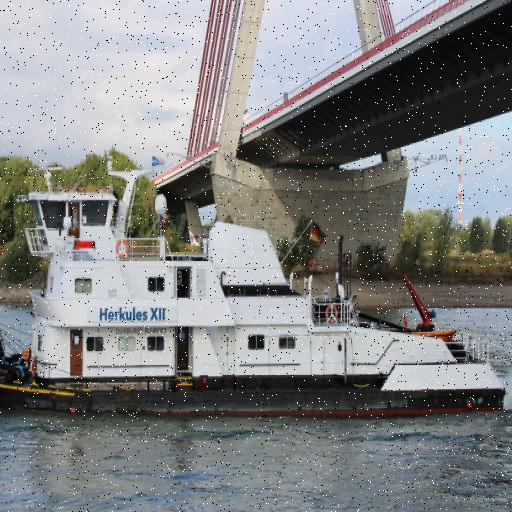tugboat: (1, 164, 512, 432)
